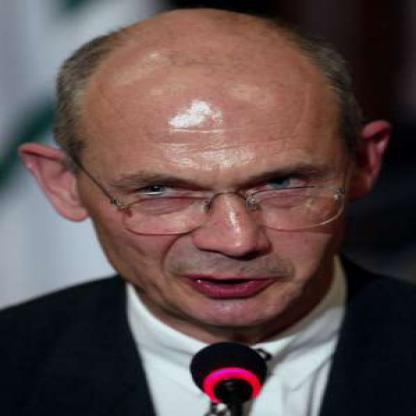face: (78, 10, 357, 329)
